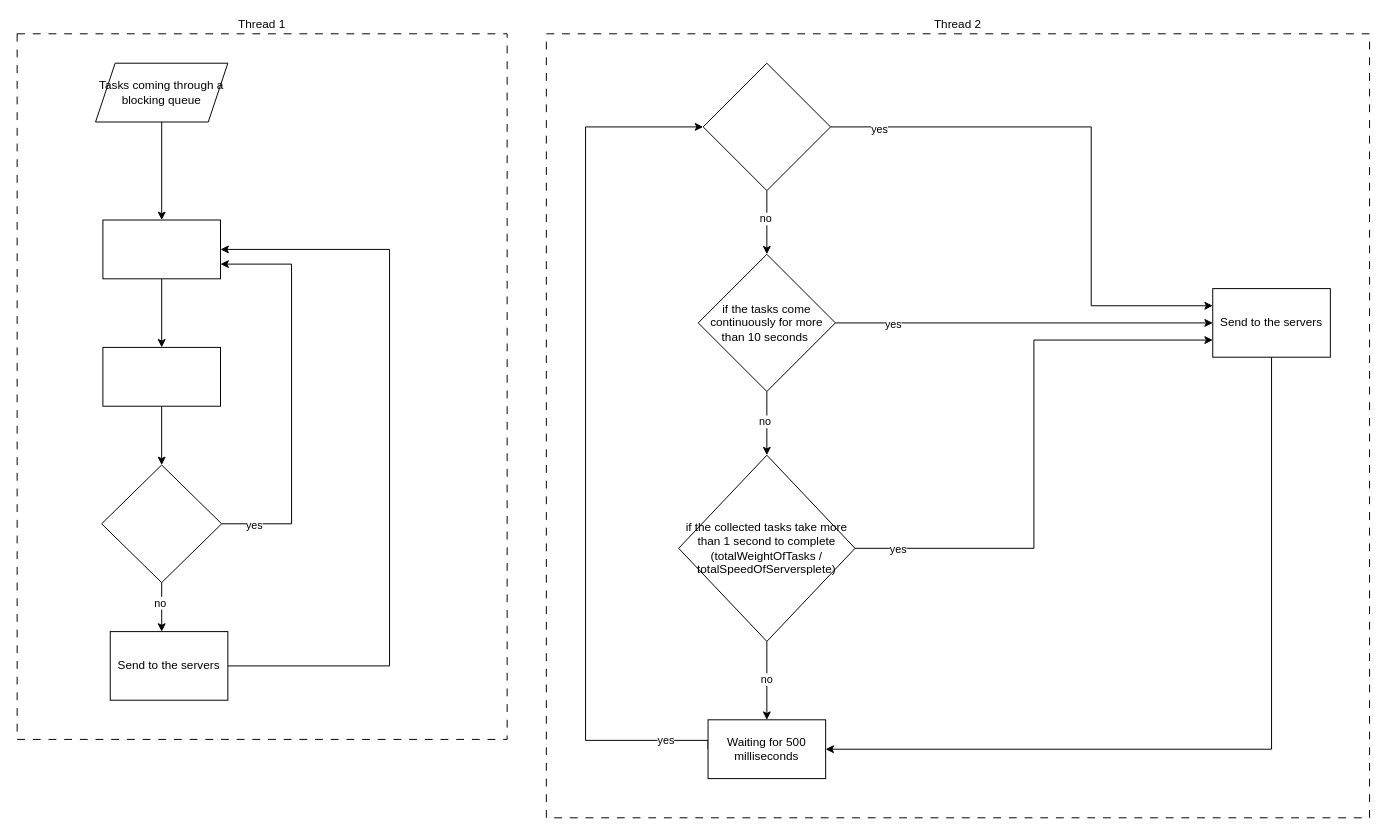
This 1387x835 diagram has some shape labels left out. The shapes that lost their labels are listed below. From the top down, each one's centre as x and y in pixels, then its label:
[766,126]: if there is a gap of more than 500ms in incoming tasks
[161,249]: waiting for available spaces in servers
[161,376]: waiting for tasks to be collected, similar to the remaining capacity
[161,523]: if thread 2 sends the tasks before completing collecting
